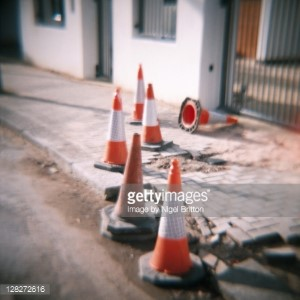traffic cone: (138, 159, 206, 289), (100, 132, 158, 232), (93, 85, 135, 172), (134, 84, 174, 153), (178, 97, 237, 135), (128, 63, 152, 125)
